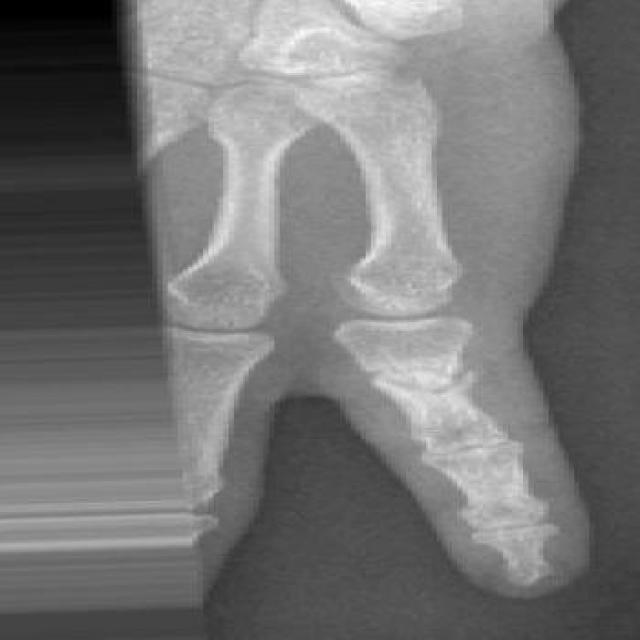Fracture: (336, 348, 514, 400)
